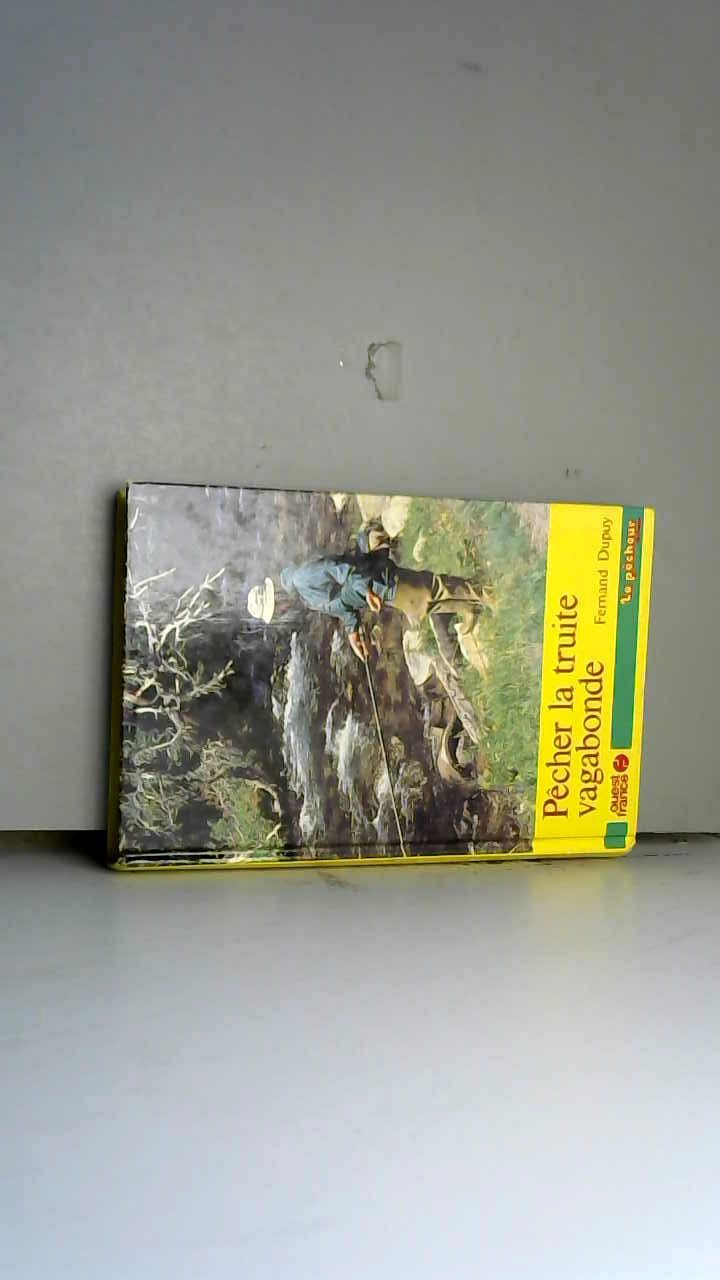book: (91, 464, 670, 896)
